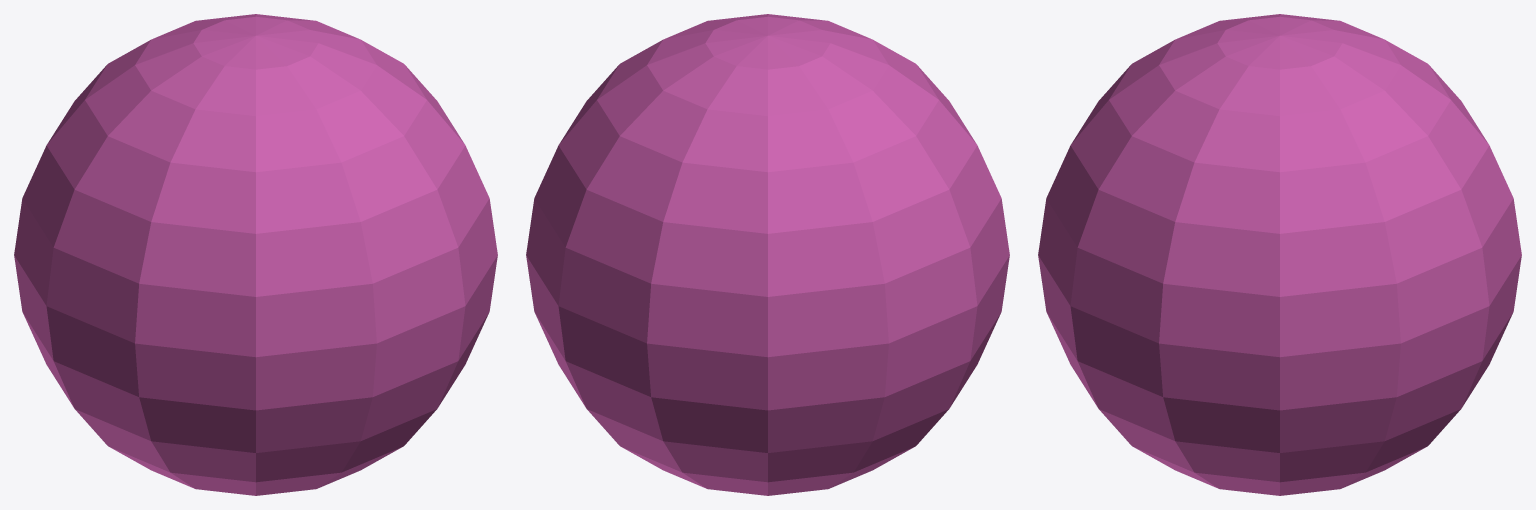
File: bullet.glb
The picture shows the model from 3 angles, left to right: view 1: azimuth 30°, elevation 25°; view 2: azimuth 150°, elevation 25°; view 3: azimuth 270°, elevation 25°; orthographic projection.
Parts seen in each view (by area): view 1: Bullet; view 2: Bullet; view 3: Bullet.
Part boxes in pixels (box(x1,y1,x2,y2)): Bullet: box(14, 14, 497, 495); Bullet: box(526, 14, 1009, 495); Bullet: box(1038, 14, 1521, 495).
Size of the model in its own units: 1 by 1 by 1.
